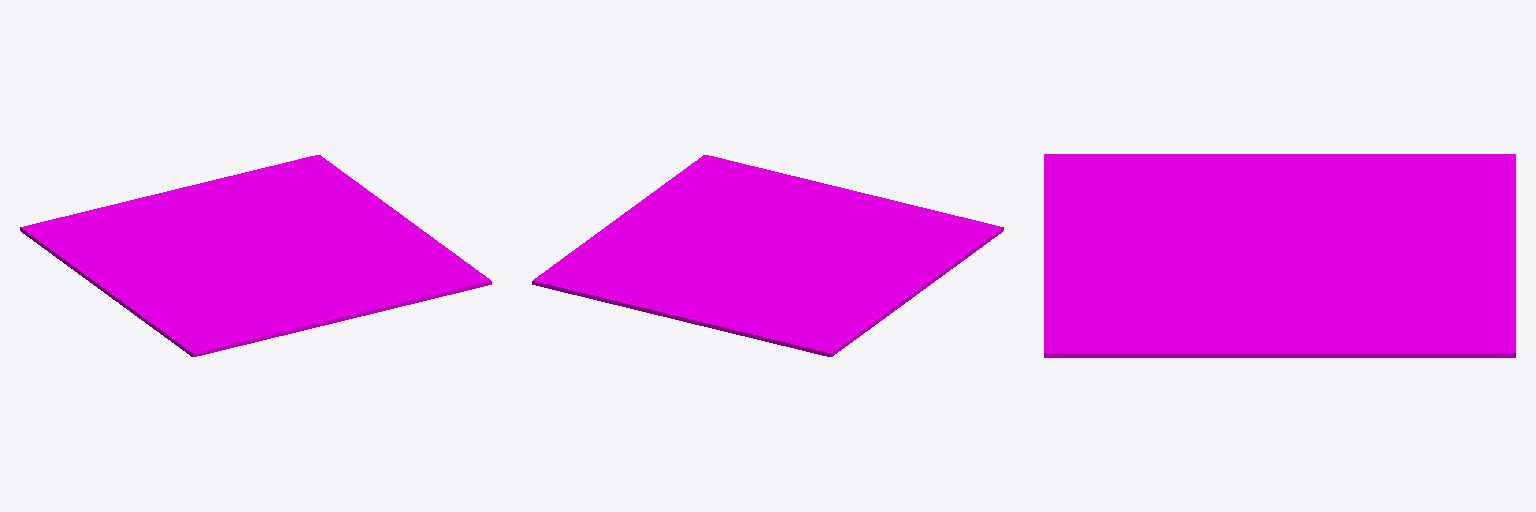
robot.urdf — base plate:
<?xml version="1.0"?>
<!-- created with Phobos 1.0.1 "Capricious Choutengan" -->
  <robot name="base plate">

    <link name="Untitled">
      <inertial>
        <origin xyz="0 0 0" rpy="0 0 0"/>
        <mass value="0.001"/>
        <inertia ixx="0.001" ixy="0" ixz="0" iyy="0.001" iyz="0" izz="0.001"/>
      </inertial>
      <visual name="Cube">
        <origin xyz="0 0 0" rpy="0 0 0"/>
        <geometry>
          <box size="0.75 0.75 0.01"/>
        </geometry>
        <material name="Material.004"/>
      </visual>
    </link>

    <material name="Material.004">
      <color rgba="1 0 1 1.0"/>
    </material>

  </robot>

--- What the picture shows (computed from the rendered views, not written in the file) ---
The picture shows the robot from 3 angles, left to right: view 1: azimuth 30°, elevation 25°; view 2: azimuth 150°, elevation 25°; view 3: azimuth 270°, elevation 25°; orthographic projection.
Robot: base plate — 1 links, 0 joints (none); root link Untitled; default pose: every joint at zero.
Links seen in each view (by area): view 1: Untitled; view 2: Untitled; view 3: Untitled.
Link boxes in pixels (x1=…): Untitled: x1=20, y1=155, x2=491, y2=356; Untitled: x1=532, y1=155, x2=1003, y2=356; Untitled: x1=1044, y1=154, x2=1515, y2=357.
Size in the robot's own frame: 0.75 by 0.75 by 0.01 metres.
Geometry: primitives only (box / cylinder / sphere), no mesh files.